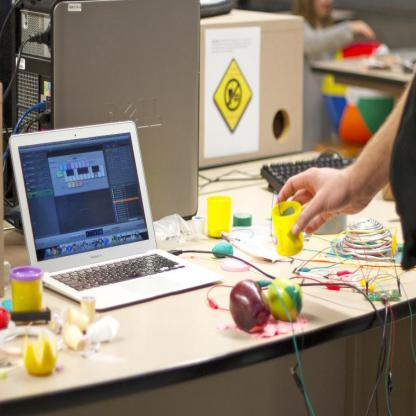board: (6, 121, 224, 314)
